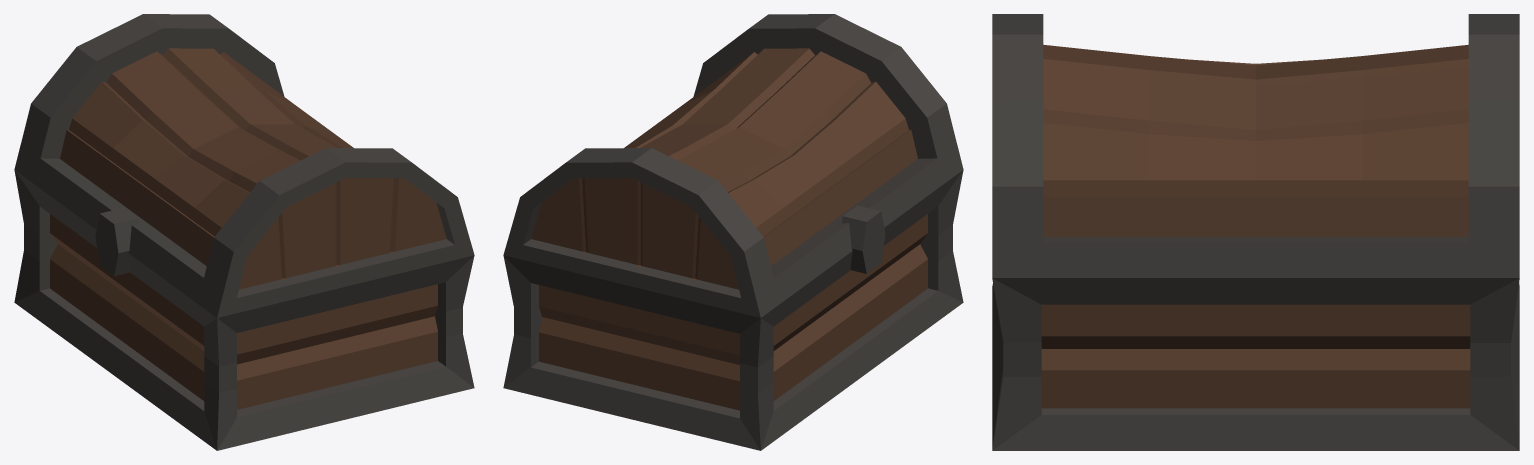
File: сундук.fbx
3 renders of one model, left to right at view 1: azimuth 30°, elevation 25°; view 2: azimuth 150°, elevation 25°; view 3: azimuth 270°, elevation 25°, orthographic. The views are drawn at different scales.
Parts seen in each view (by area): view 1: Cube.001; view 2: Cube.001; view 3: Cube.001.
Boxes of the visible parts, left/top/right/bottom form: Cube.001: left=14, top=14, right=474, bottom=450; Cube.001: left=503, top=14, right=963, bottom=450; Cube.001: left=992, top=14, right=1519, bottom=450.
Size of the model in its own units: 414 by 380 by 543.
